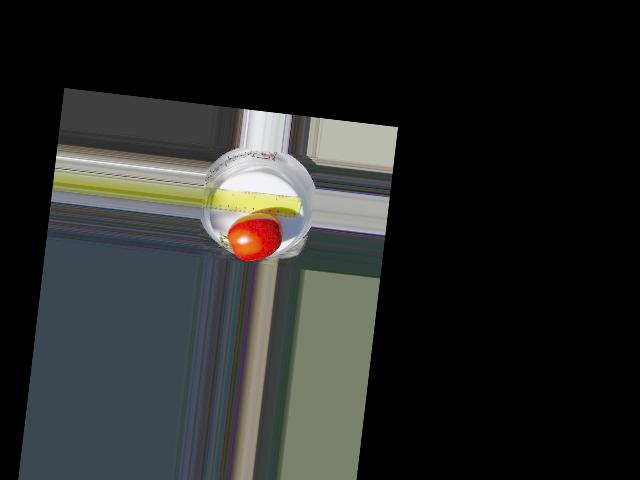tomato: (224, 208, 284, 264)
